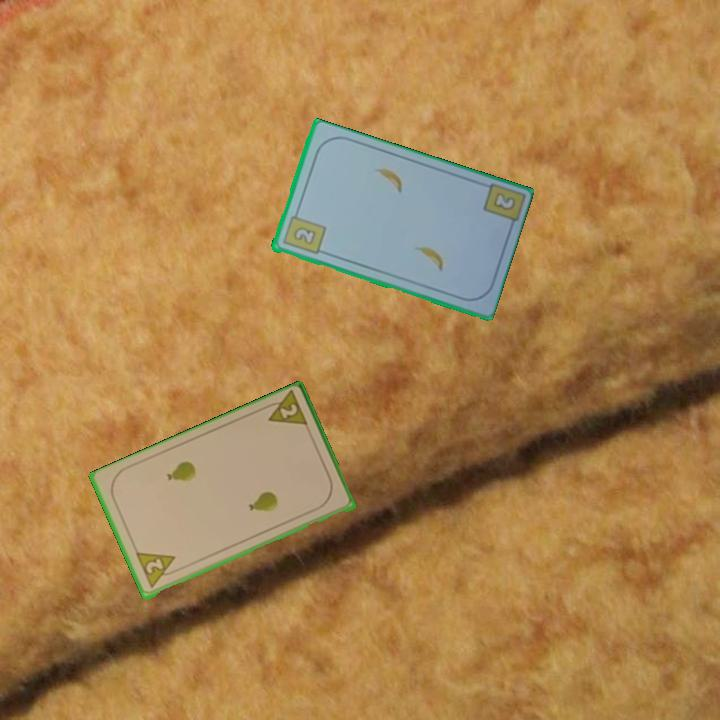2b: (279, 207, 328, 258), (489, 189, 518, 214)
2p: (259, 389, 311, 431), (133, 549, 182, 592)
